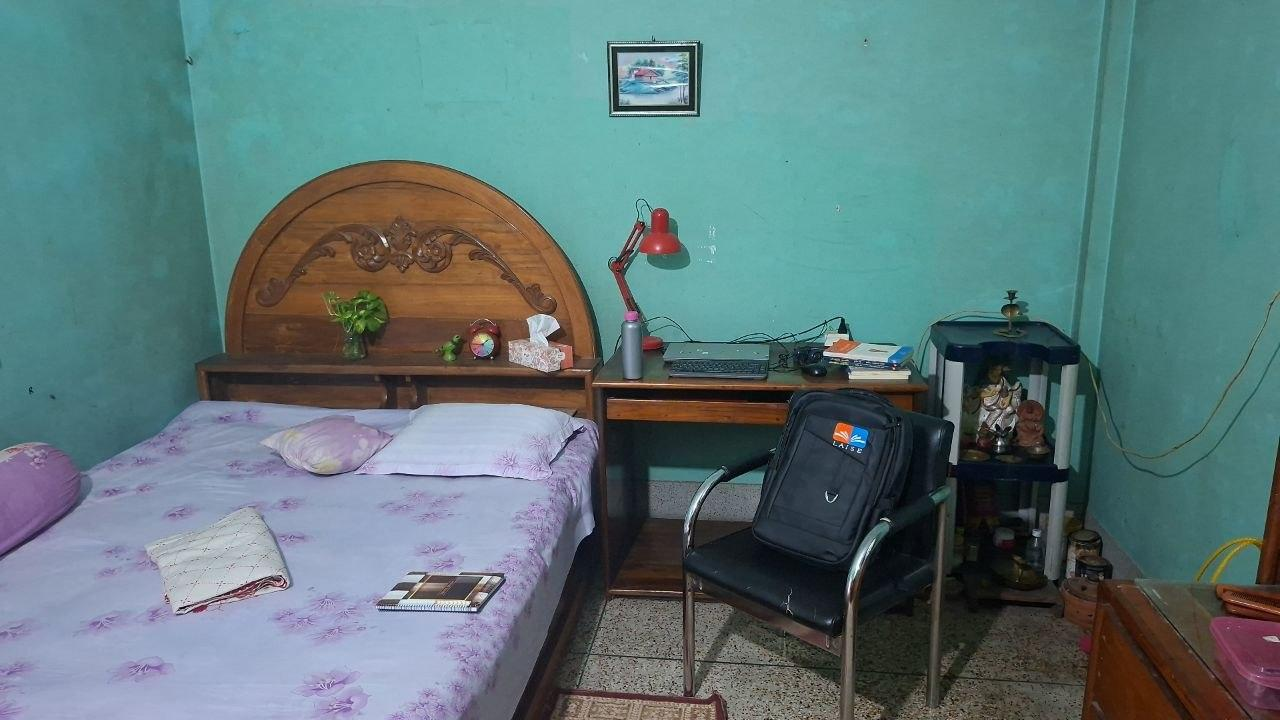Bag: (728, 375, 946, 622)
Blanket: (126, 500, 327, 630)
Book: (837, 339, 917, 383)
Box: (496, 329, 584, 370)
Chair: (678, 393, 965, 720)
Clock: (460, 318, 507, 364)
Keyboard: (659, 360, 783, 385)
Laptop: (659, 333, 777, 375)
Mouse: (791, 354, 839, 389)
Notebook: (368, 555, 507, 611)
Photo: (607, 44, 699, 121)
Pillow: (383, 402, 580, 477), (249, 400, 408, 481), (0, 437, 94, 573)
Plant: (322, 293, 387, 366)
Table Lamp: (603, 188, 687, 370)
